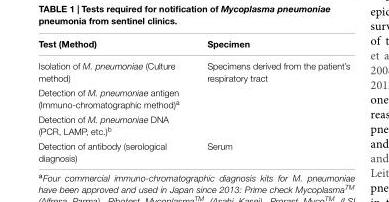table: (37, 37, 349, 162)
table column: (192, 37, 349, 162), (37, 37, 192, 162)
table column header: (37, 37, 349, 54)
table projected row header: (37, 84, 349, 111), (37, 111, 349, 137)
table row: (37, 54, 349, 84), (37, 84, 349, 111), (37, 111, 349, 137), (37, 137, 349, 162), (37, 37, 349, 54)
